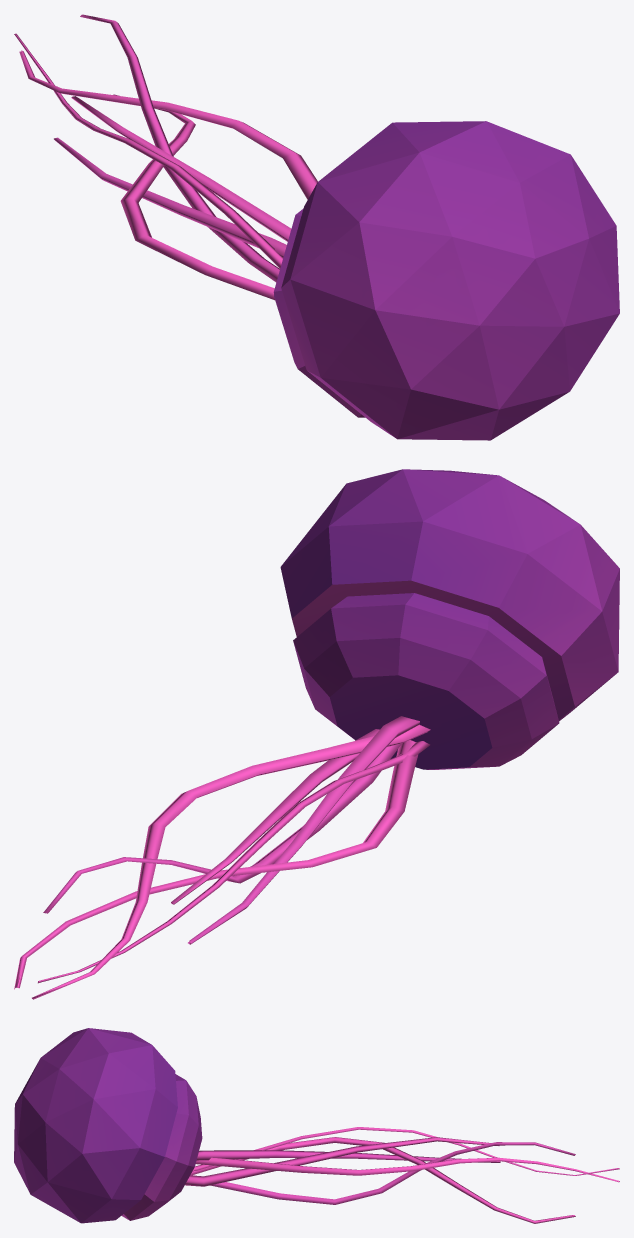
File: JellyFish_2.fbx
3 views of the same model, one above another, from view 1: azimuth 30°, elevation 25°; view 2: azimuth 150°, elevation 25°; view 3: azimuth 270°, elevation 25° (orthographic). The views are drawn at different scales.
Parts seen in each view (by area): view 1: JellyFish_2; view 2: JellyFish_2; view 3: JellyFish_2.
Boxes of the visible parts, x1,y1,x2,y2 form: JellyFish_2: (14,14,619,440); JellyFish_2: (14,469,619,999); JellyFish_2: (14,1028,619,1223).
Bounding box in the file's own units: 184 × 164 × 518.
